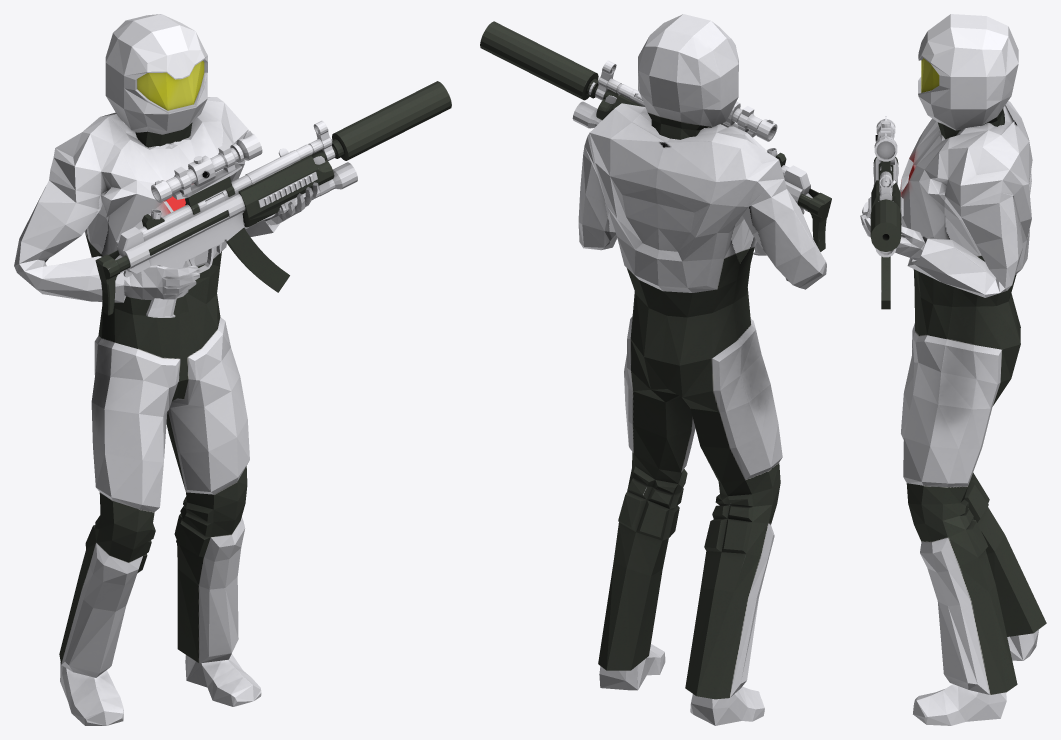
File: walk9.obj
3 renders of one model, left to right at view 1: azimuth 30°, elevation 25°; view 2: azimuth 150°, elevation 25°; view 3: azimuth 270°, elevation 25°, orthographic. The views are drawn at different scales.
Parts seen in each view (by area): view 1: Male001Skin_001, Object001; view 2: Male001Skin_001, Object001; view 3: Male001Skin_001, Object001.
Boxes of the visible parts, <box> form: Male001Skin_001: <box>14,14,318,725</box>; Object001: <box>95,81,451,317</box>; Male001Skin_001: <box>578,14,826,725</box>; Object001: <box>480,21,831,255</box>; Male001Skin_001: <box>860,14,1046,725</box>; Object001: <box>868,116,903,309</box>.
Bounding box in the file's own units: 1111 × 1881 × 475.
Materials: 1 (1 with a texture image).
